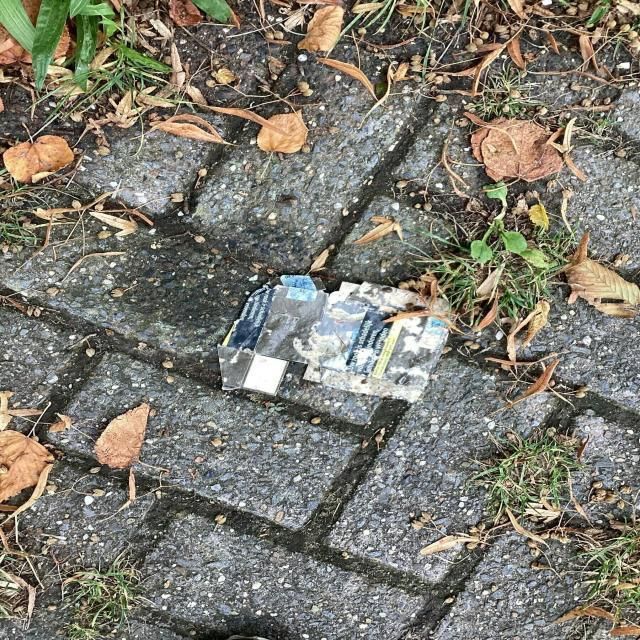Paper: (214, 272, 454, 404)
